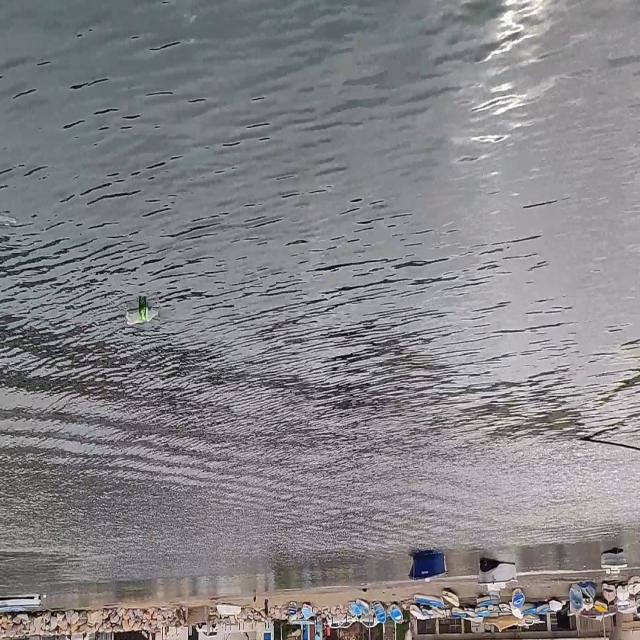Plastic bottle: (125, 302, 160, 330)
